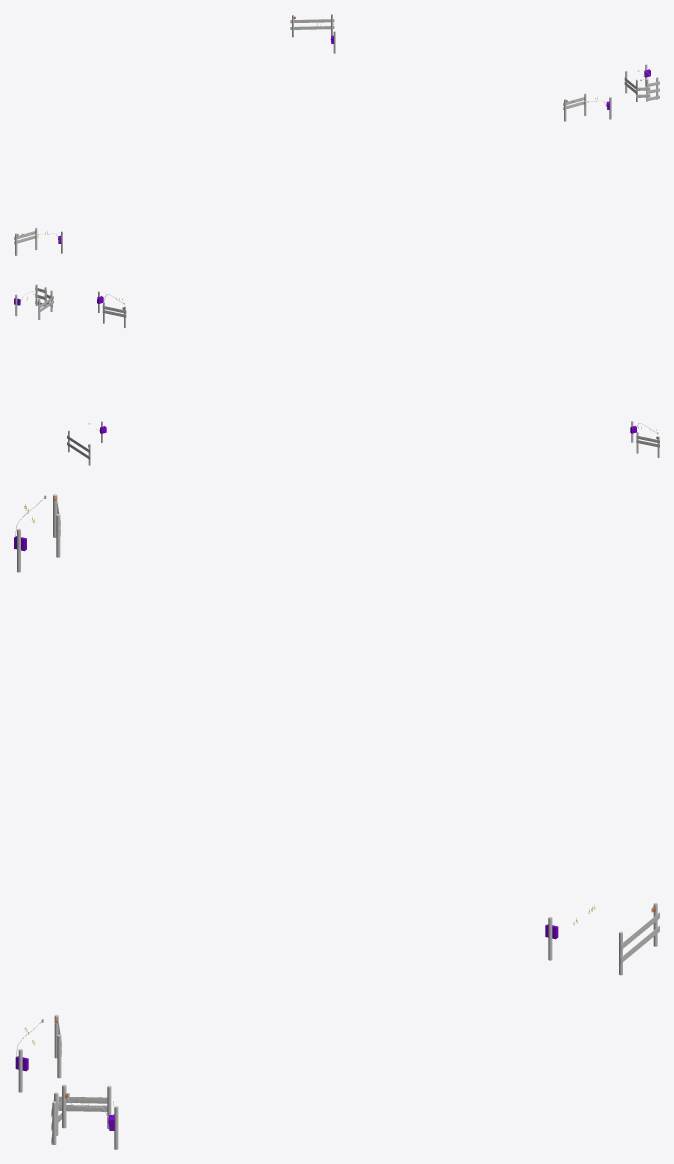
Rendered from Winch standards.fbx.
3 views of the same model, one above another, from view 1: azimuth 30°, elevation 25°; view 2: azimuth 150°, elevation 25°; view 3: azimuth 270°, elevation 25° (orthographic). The views are drawn at different scales.
Size of the model in its own units: 5547 by 197 by 2456.
